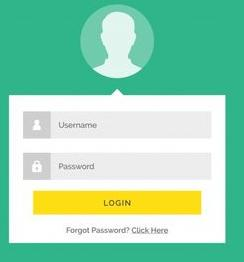button: (32, 190, 203, 217)
field: (21, 151, 212, 182), (21, 110, 212, 140)
